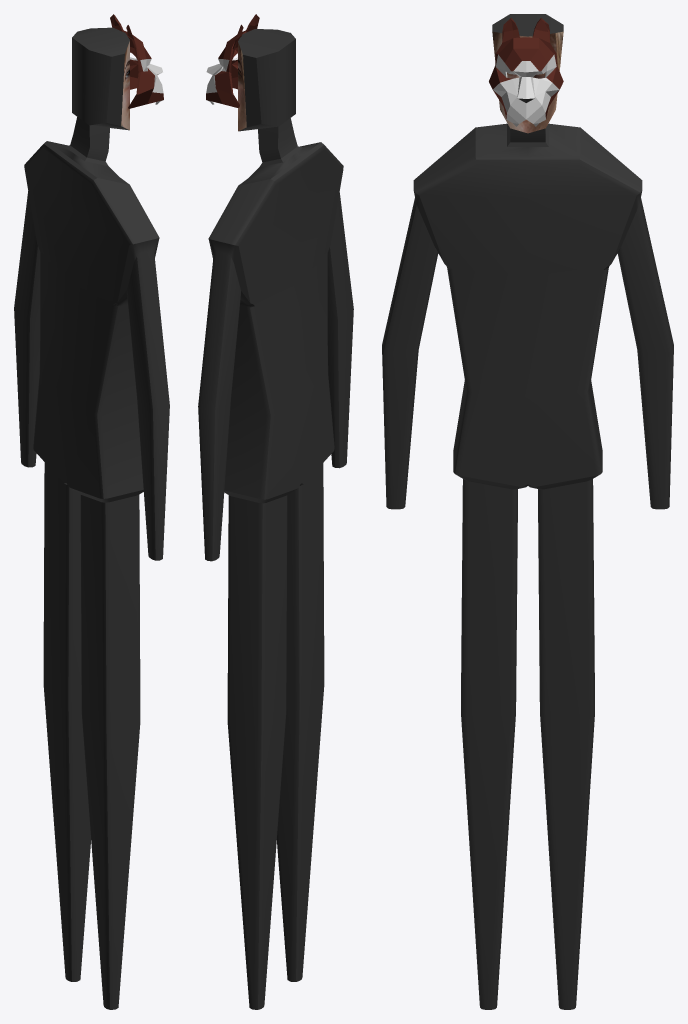
Rendered from Chat.fbx.
3 renders of one model, left to right at view 1: azimuth 30°, elevation 25°; view 2: azimuth 150°, elevation 25°; view 3: azimuth 270°, elevation 25°, orthographic. The views are drawn at different scales.
Parts seen in each view (by area): view 1: Chat; view 2: Chat; view 3: Chat.
Part boxes in pixels (x1,y1,x2,y2): Chat: (14, 14, 169, 1009); Chat: (198, 14, 353, 1009); Chat: (382, 14, 673, 1009).
Bounding box in the file's own units: 1.13 × 11.11 × 2.93.
